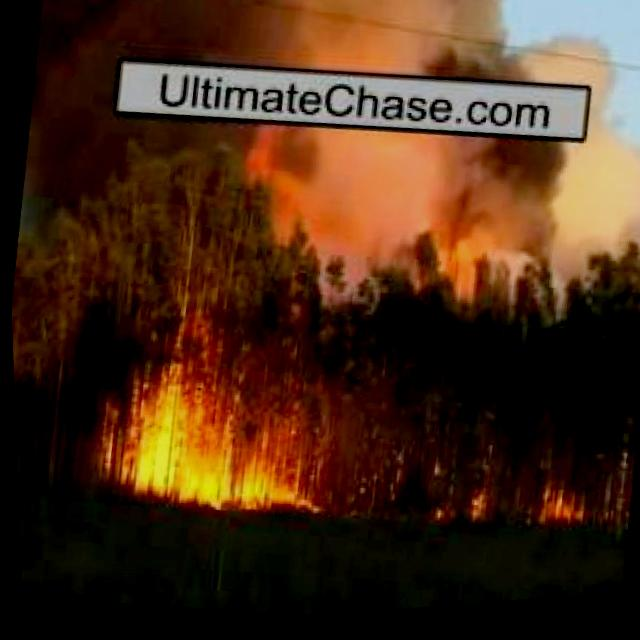helmet: (106, 392, 311, 522), (431, 244, 497, 306), (239, 139, 289, 216), (524, 491, 584, 537), (423, 494, 487, 533)
no_helmet: (36, 0, 624, 137), (281, 104, 640, 290)
